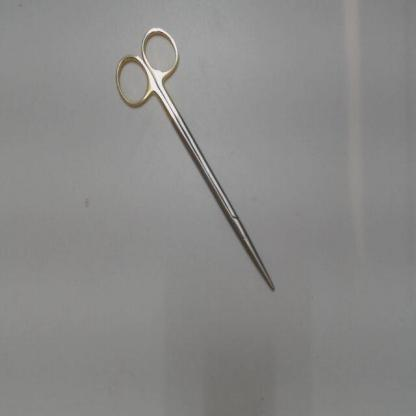7 Metzenbaum Scissors: (113, 23, 276, 292)
